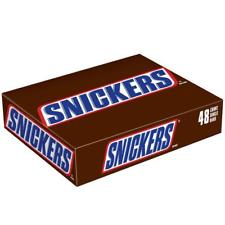snickers: (43, 69, 171, 124), (44, 69, 171, 124), (43, 69, 171, 123), (4, 104, 69, 172), (7, 104, 69, 172), (7, 107, 69, 172), (104, 121, 174, 168)
